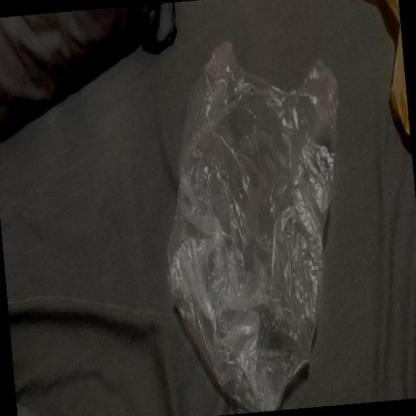Plastic Bag: (164, 43, 342, 416)
